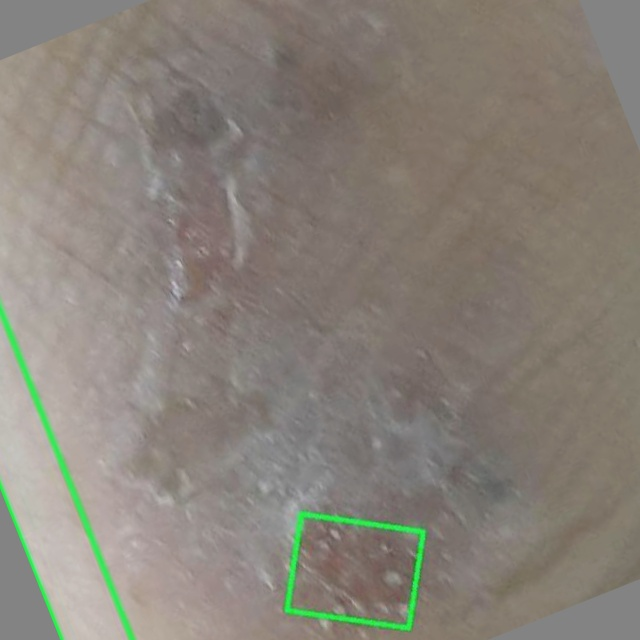Eczema: (286, 513, 423, 629)
